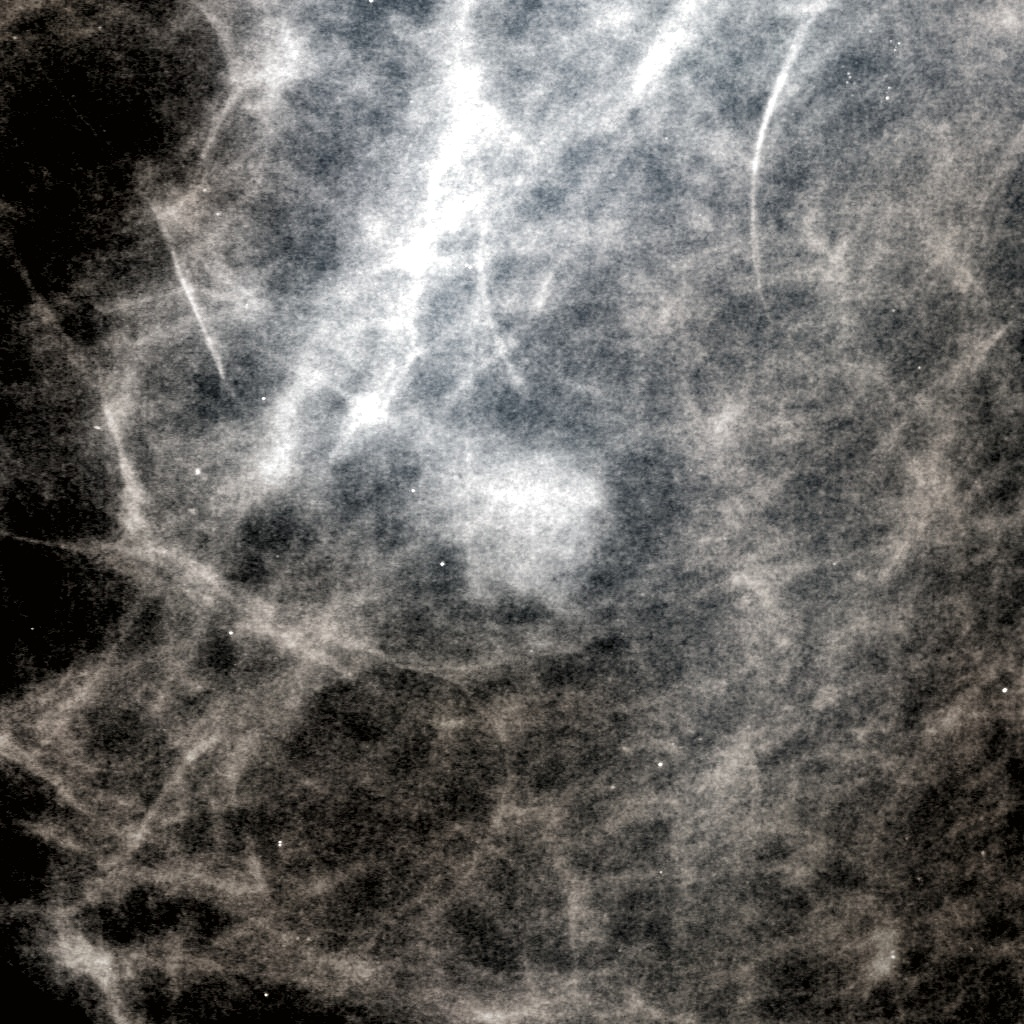tumor: (405, 421, 619, 603)
